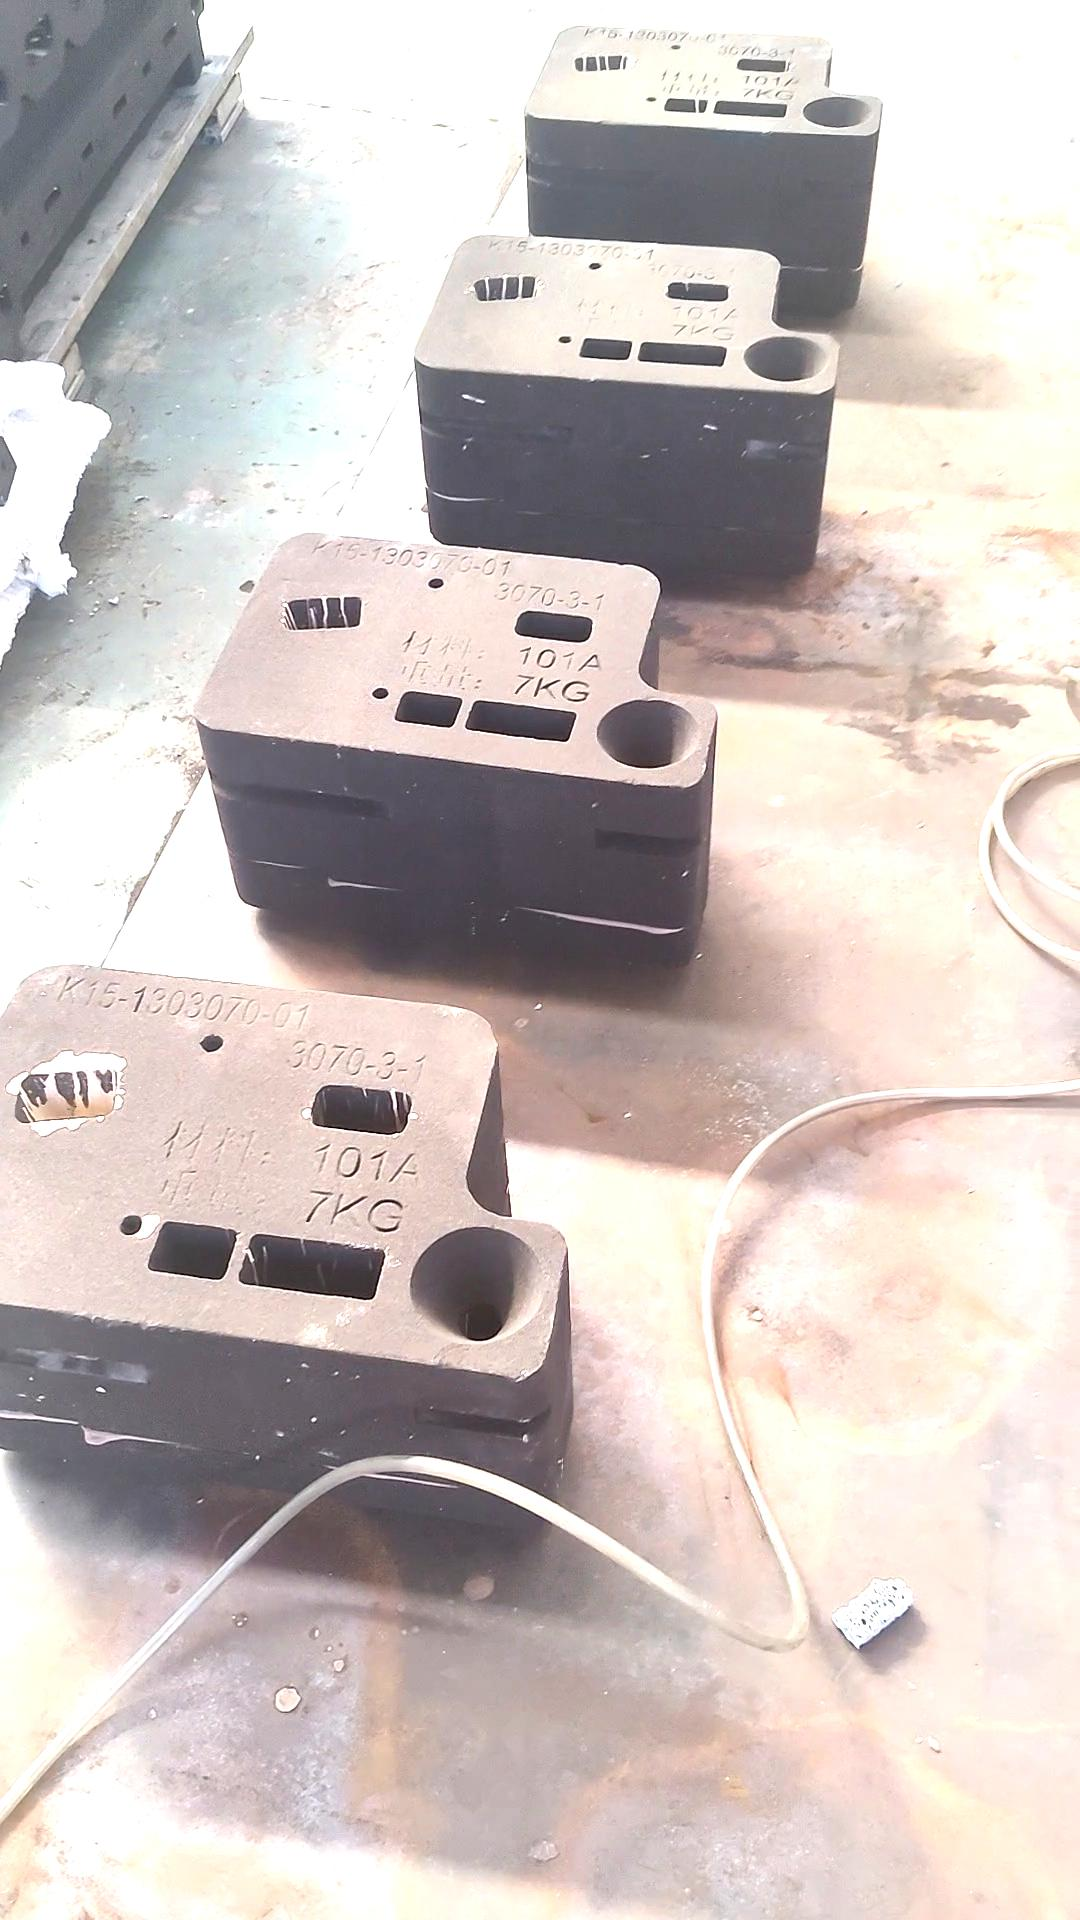pouring hole: (407, 1226, 542, 1344), (597, 700, 700, 769), (742, 336, 828, 382), (803, 98, 872, 128)
